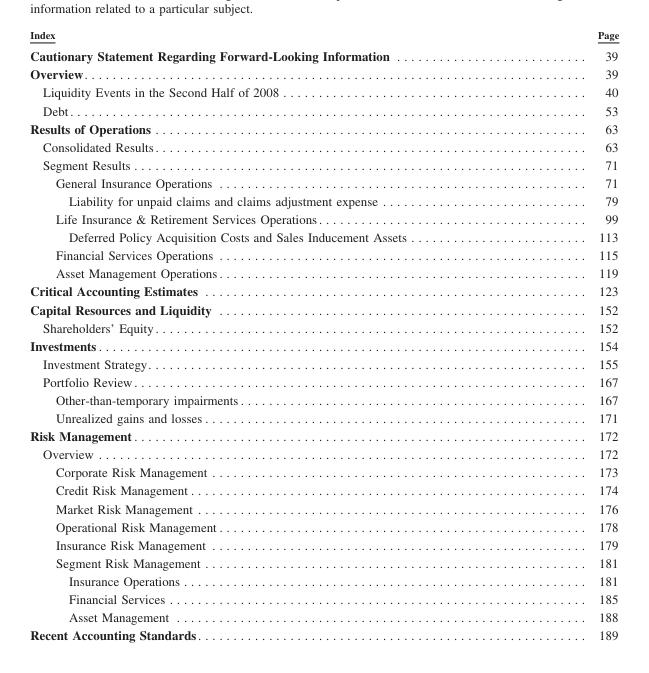table: (29, 28, 618, 641)
table column: (29, 28, 501, 641), (501, 28, 618, 641)
table column header: (29, 28, 618, 44)
table row: (29, 44, 618, 64), (29, 64, 618, 83), (29, 118, 618, 137), (29, 299, 618, 318), (29, 480, 618, 499), (29, 83, 618, 101), (29, 137, 618, 155), (29, 155, 618, 173), (29, 173, 618, 191), (29, 191, 618, 209), (29, 209, 618, 227), (29, 227, 618, 245), (29, 245, 618, 263), (29, 263, 618, 281), (29, 281, 618, 299), (29, 318, 618, 336), (29, 336, 618, 354), (29, 354, 618, 372), (29, 372, 618, 390), (29, 390, 618, 408), (29, 408, 618, 426), (29, 426, 618, 444), (29, 444, 618, 462), (29, 462, 618, 480), (29, 499, 618, 517), (29, 517, 618, 535), (29, 535, 618, 553), (29, 553, 618, 571), (29, 571, 618, 589), (29, 589, 618, 607), (29, 607, 618, 625), (29, 101, 618, 118), (29, 28, 618, 44), (29, 625, 618, 641)
